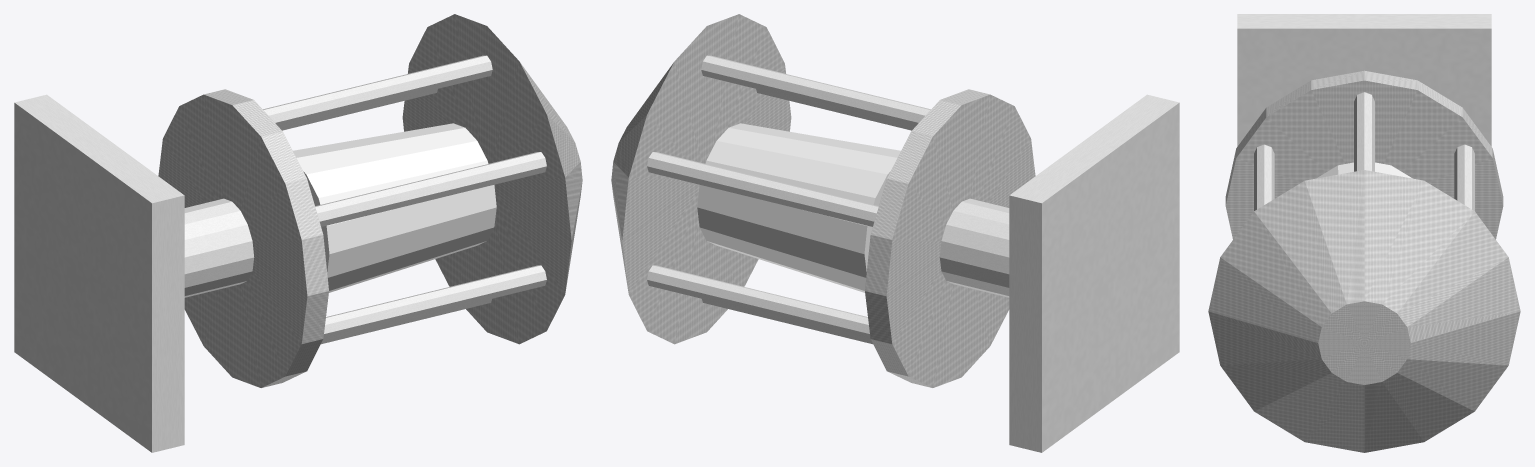
File: poolsidepartylantern.obj
3 renders of one model, left to right at view 1: azimuth 30°, elevation 25°; view 2: azimuth 150°, elevation 25°; view 3: azimuth 270°, elevation 25°, orthographic. The views are drawn at different scales.
Parts seen in each view (by area): view 1: Shade, Base, Metal, Light0; view 2: Shade, Base, Metal, Light0; view 3: Shade, Base, Metal, Light0.
Boxes of the visible parts, <box> form: Shade: <box>158,14,582,387</box>; Base: <box>14,94,184,452</box>; Metal: <box>184,55,546,344</box>; Light0: <box>293,123,496,292</box>; Shade: <box>611,14,1035,387</box>; Base: <box>1009,94,1179,452</box>; Metal: <box>647,55,1009,344</box>; Light0: <box>697,123,900,292</box>; Shade: <box>1208,70,1520,452</box>; Base: <box>1237,14,1491,146</box>; Metal: <box>1254,92,1474,210</box>; Light0: <box>1316,162,1412,178</box>.
Size of the model in its own units: 0.875 by 0.54 by 0.54.
